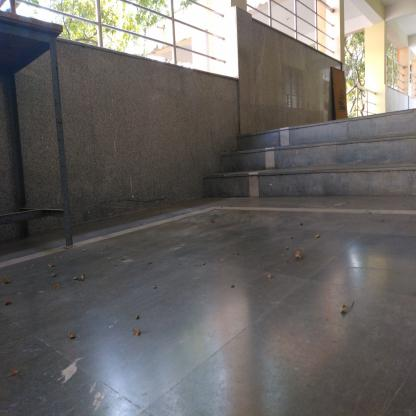stairs: (239, 136, 409, 206)
